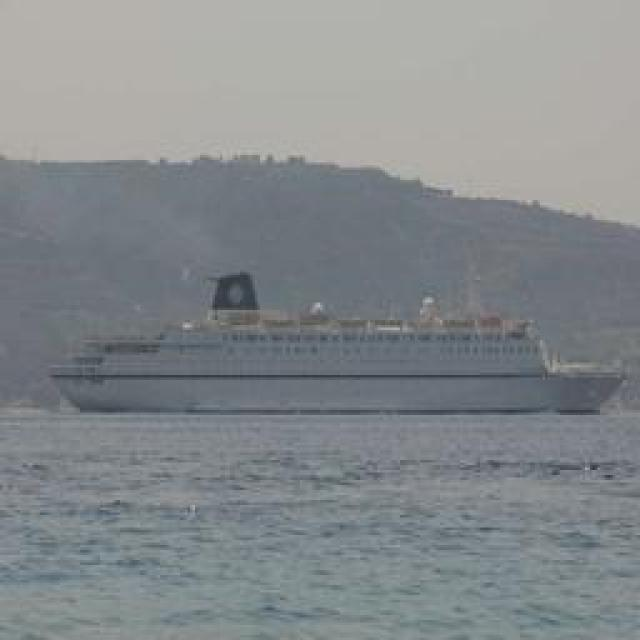CIV_Ship: (58, 316, 620, 414)
